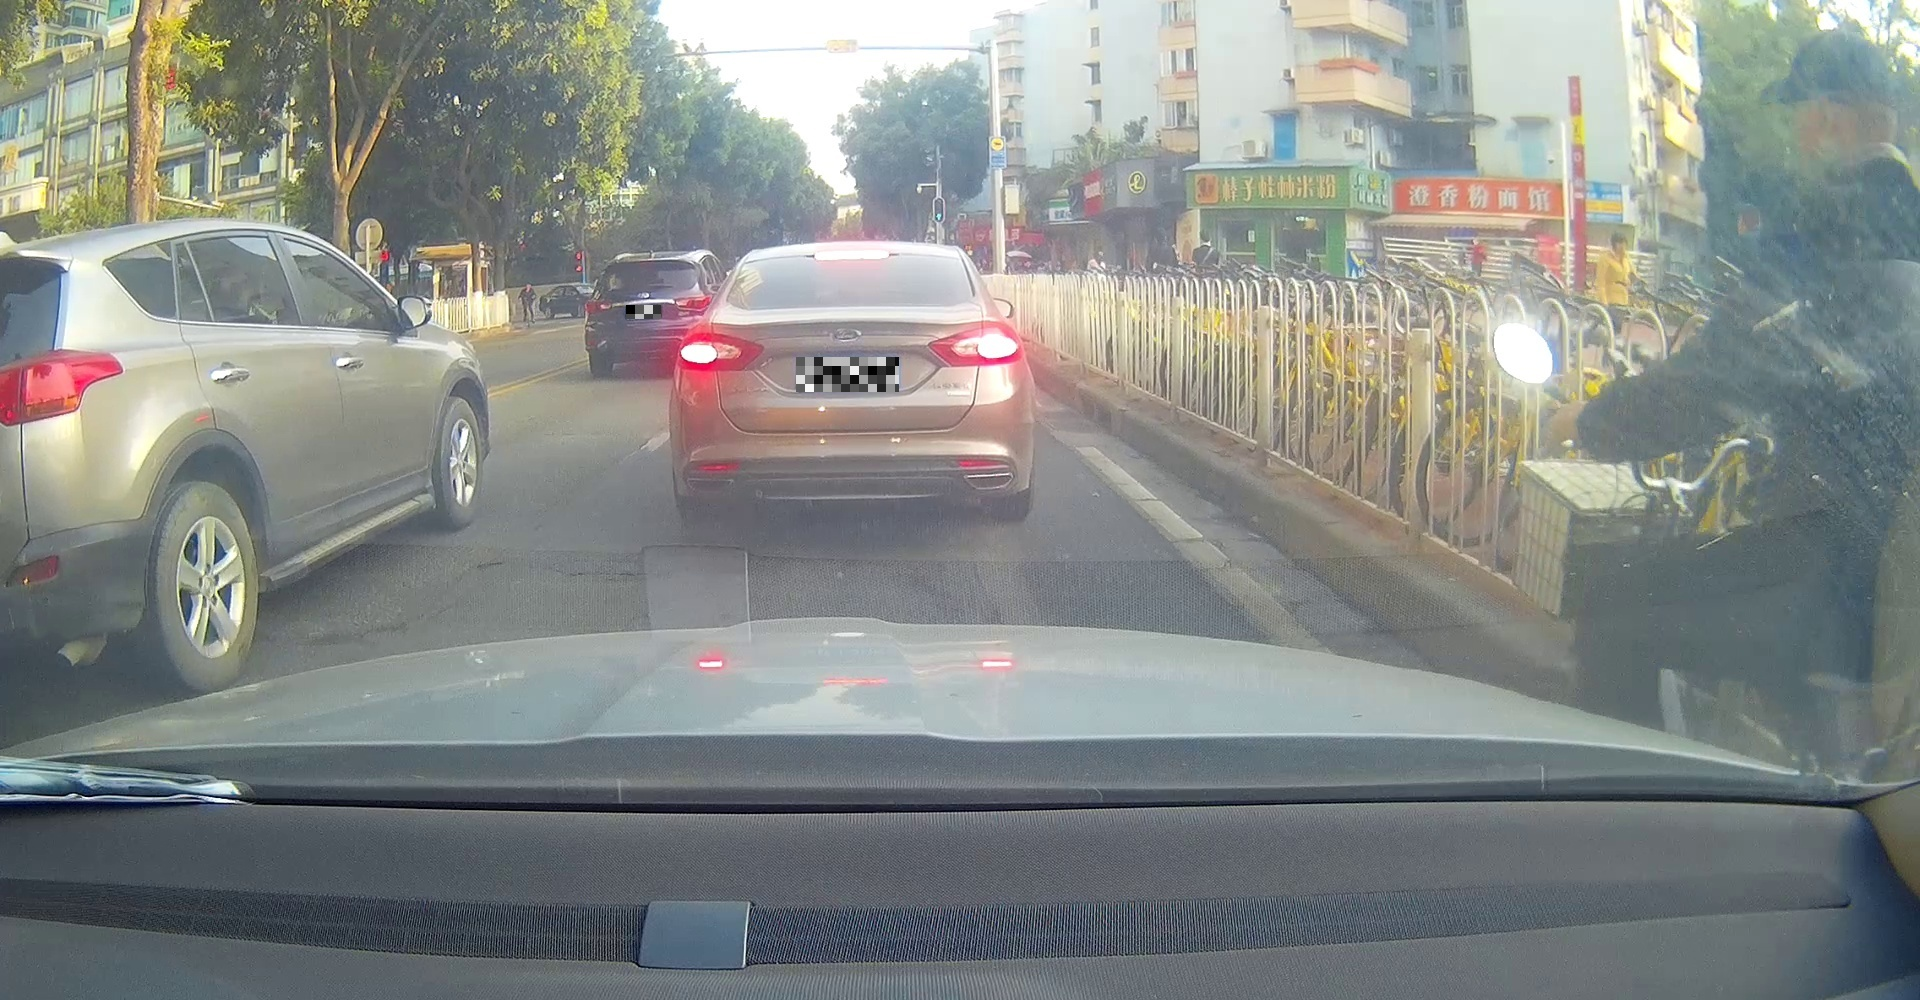L_light: (676, 332, 764, 372)
R_light: (926, 322, 1023, 367)
T_light: (811, 251, 891, 260)
day-brake: (668, 241, 1035, 522)
plate_1: (626, 305, 662, 319)
plate_2: (796, 357, 899, 392)
